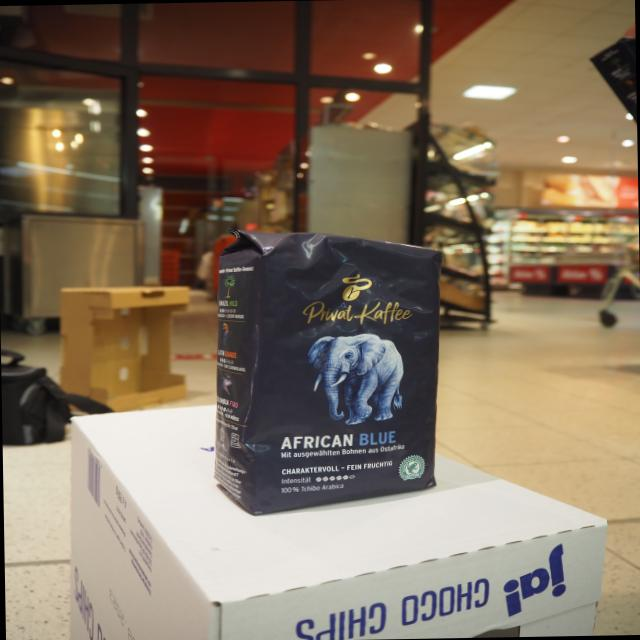AB Bohne: (248, 243, 444, 518)
